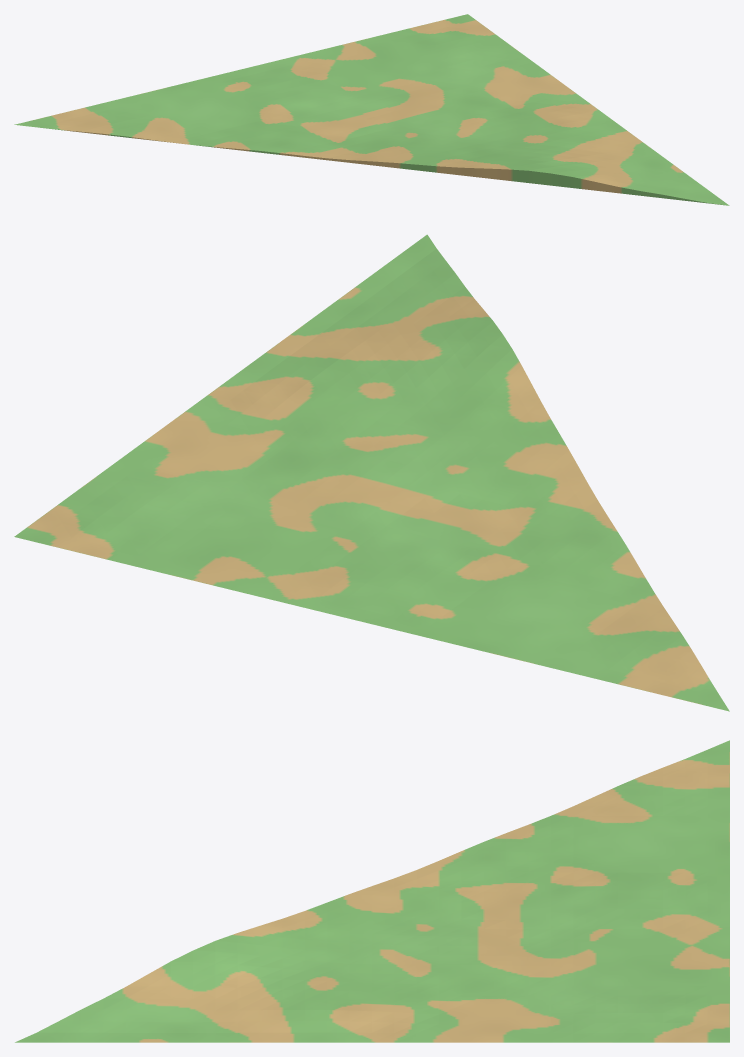
The model's file is Grass_Flat_07_SE.obj.
3 views of the same model, one above another, from view 1: azimuth 30°, elevation 25°; view 2: azimuth 150°, elevation 25°; view 3: azimuth 270°, elevation 25° (orthographic). The views are drawn at different scales.
Size of the model in its own units: 10 by 0.26 by 10.
Materials: 1 (1 with a texture image).
